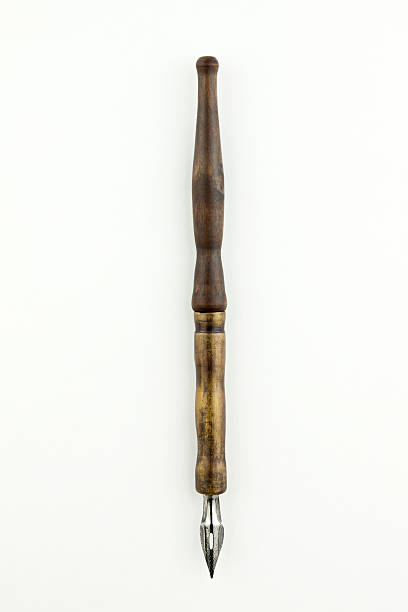pen: (181, 47, 250, 587)
